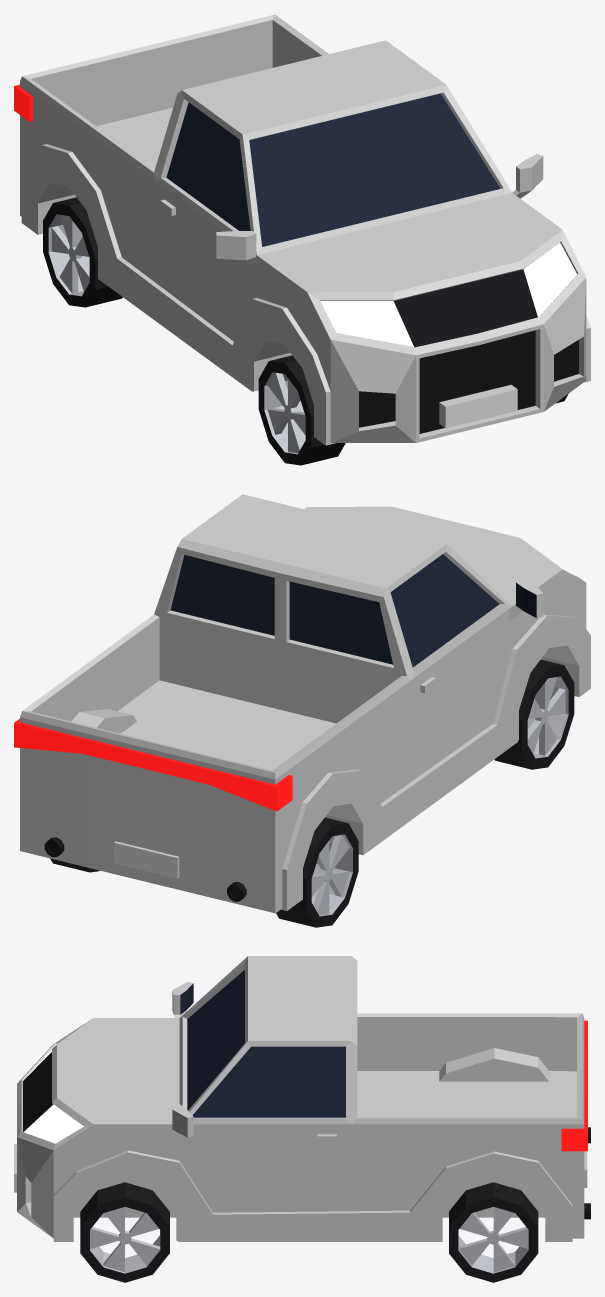
Rendered from pickup.glb.
3 views of the same model, one above another, from view 1: azimuth 30°, elevation 25°; view 2: azimuth 150°, elevation 25°; view 3: azimuth 270°, elevation 25° (orthographic). The views are drawn at different scales.
Visible parts, largest first — view 1: body, wheel-front-right, wheel-back-right; view 2: body, wheel-back-right, wheel-front-right; view 3: body, wheel-back-left, wheel-front-left.
Boxes of the visible parts, <box> form: body: <box>14,14,590,445</box>; wheel-front-right: <box>258,355,345,465</box>; wheel-back-right: <box>43,197,122,307</box>; body: <box>14,494,590,913</box>; wheel-back-right: <box>276,817,358,927</box>; wheel-front-right: <box>494,659,574,769</box>; body: <box>14,956,590,1241</box>; wheel-back-left: <box>449,1182,538,1282</box>; wheel-front-left: <box>80,1182,169,1282</box>.
Bounding box in the file's own units: 2.03 × 1.59 × 3.63.
